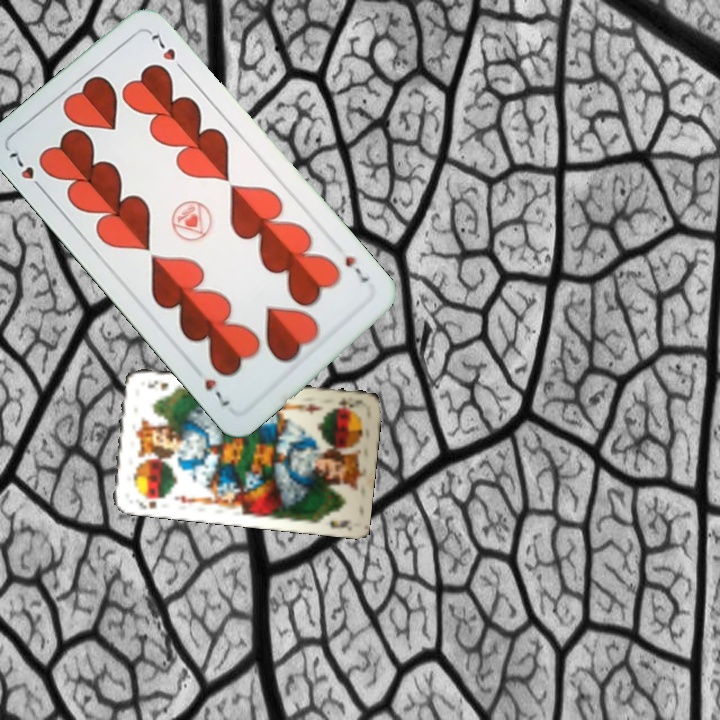H7: (5, 148, 48, 195), (340, 252, 372, 289)
SK: (136, 492, 167, 512), (327, 394, 359, 412)
